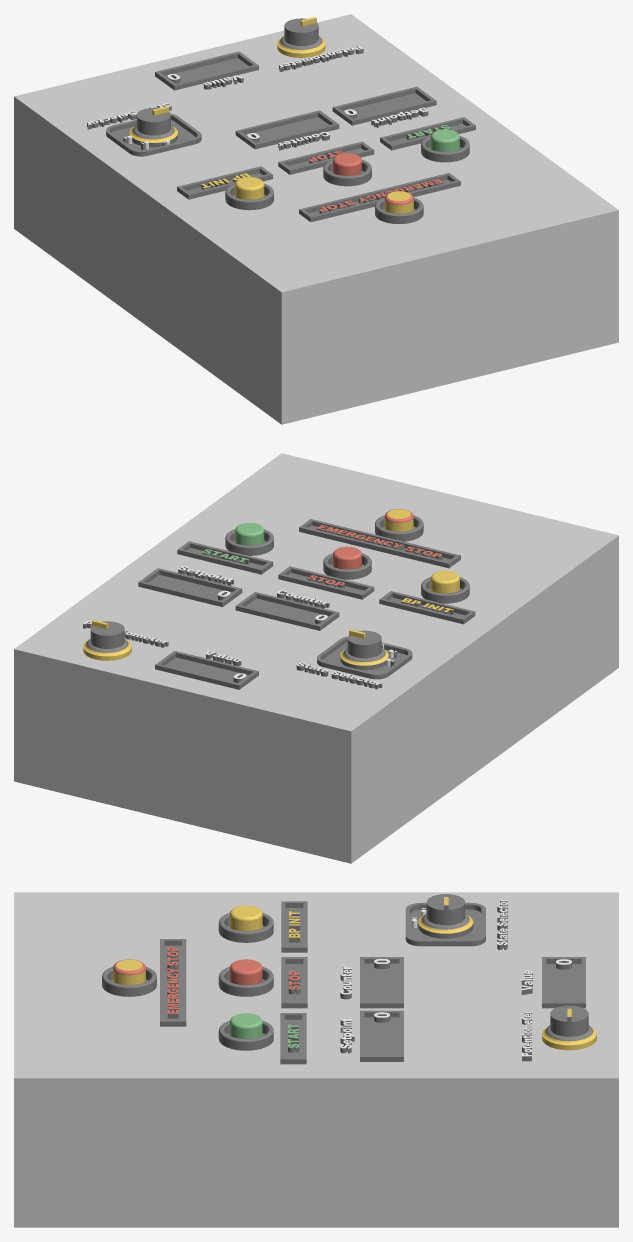
File: Colored_Box.glb
3 renders of one model, top to bottom at view 1: azimuth 30°, elevation 25°; view 2: azimuth 150°, elevation 25°; view 3: azimuth 270°, elevation 25°, orthographic. The views are drawn at different scales.
Visible parts, largest first — view 1: Body1; view 2: Body1; view 3: Body1.
Boxes of the visible parts, x1,y1,x2,y2 form: Body1: (14, 14, 618, 424); Body1: (14, 453, 618, 863); Body1: (14, 892, 618, 1227).
Size of the model in its own units: 0.2 by 0.09 by 0.275.
